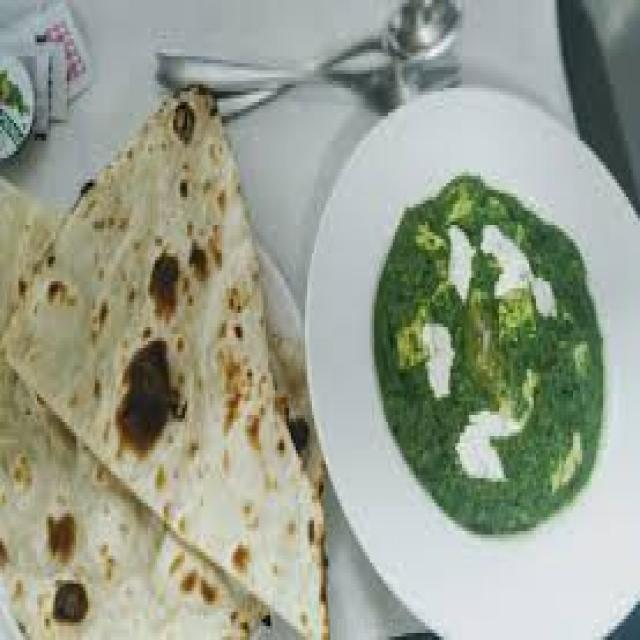Palak Paneer: (373, 171, 610, 543)
